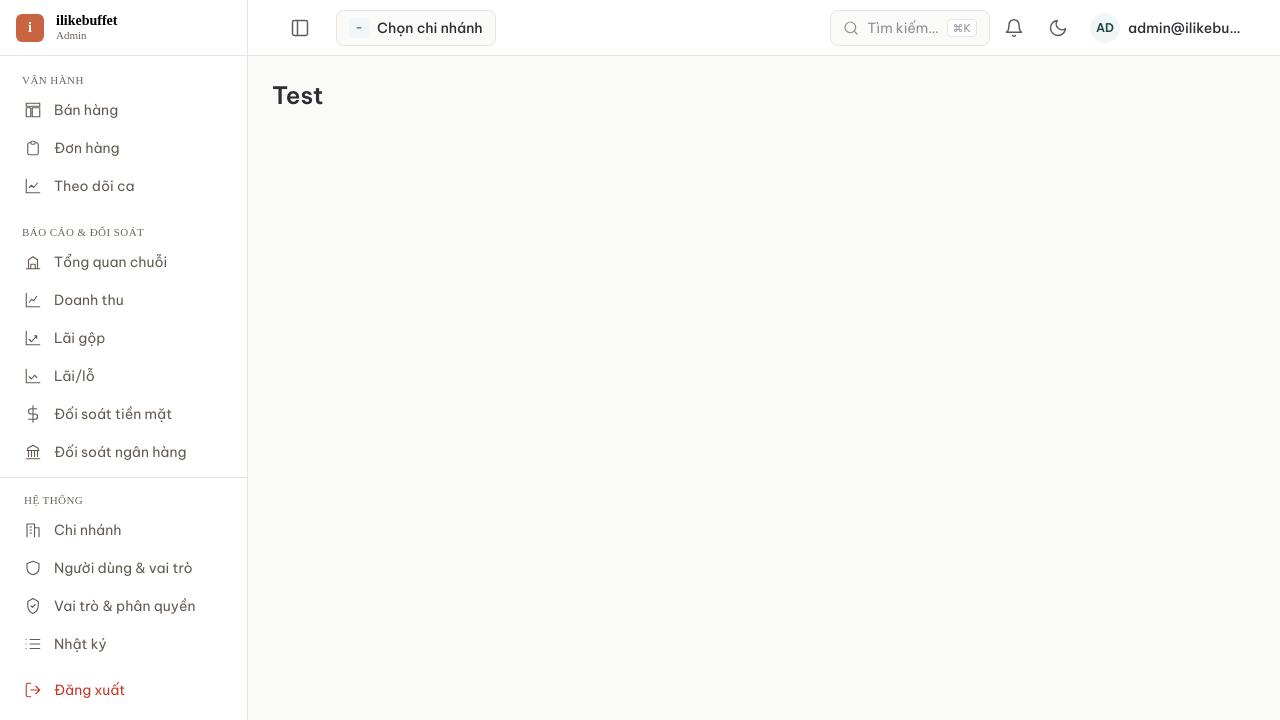
Test: Notifications bell › opens on click and shows empty state
Click the button named "Thông báo". click: (1014, 28)
box: [994, 8, 1034, 48]
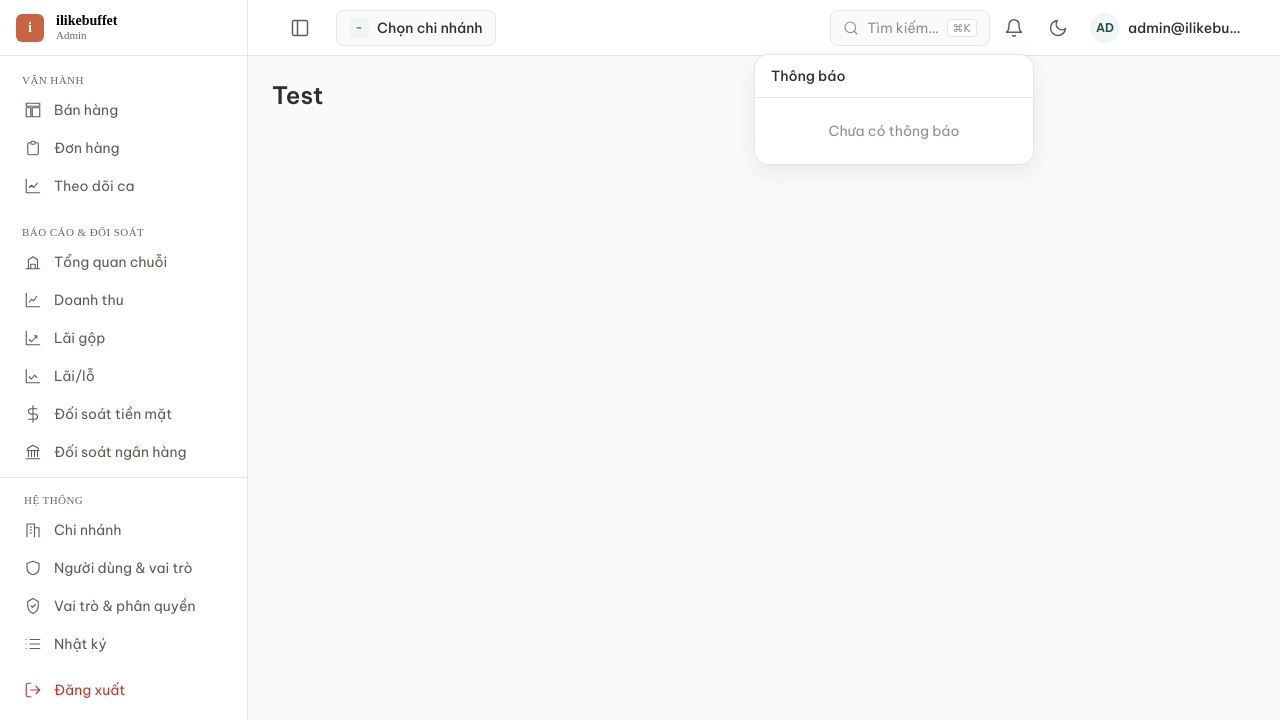
Expected: the dialog "Thông báo" is shown, [754, 54, 1034, 164]
Expected: the text "Chưa có thông báo" is shown, [828, 122, 959, 140]
